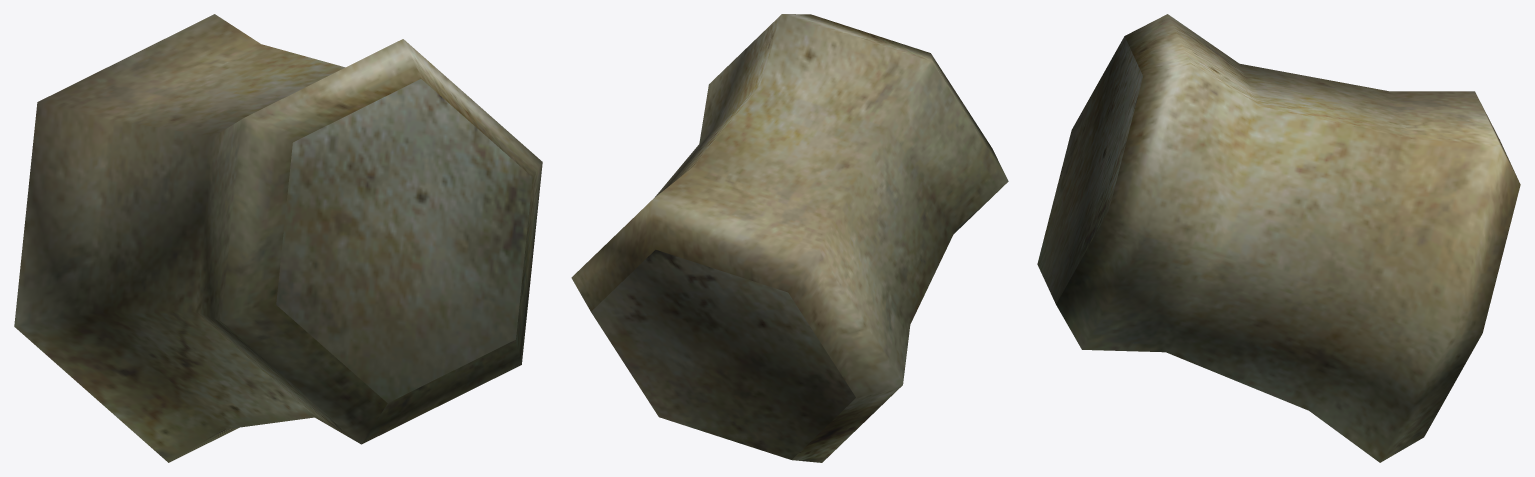
Rendered from bone_whale_piece_ver00.fbx.
The picture shows the model from 3 angles, left to right: view 1: azimuth 30°, elevation 25°; view 2: azimuth 150°, elevation 25°; view 3: azimuth 270°, elevation 25°; orthographic projection. The views are drawn at different scales.
Visible parts, largest first — view 1: bone_whale_piece_ver00; view 2: bone_whale_piece_ver00; view 3: bone_whale_piece_ver00.
Boxes of the visible parts, x1,y1,x2,y2 form: bone_whale_piece_ver00: [14, 14, 542, 462]; bone_whale_piece_ver00: [571, 14, 1008, 462]; bone_whale_piece_ver00: [1037, 14, 1520, 462].
Bounding box in the file's own units: 2.23 × 2.52 × 2.73.
